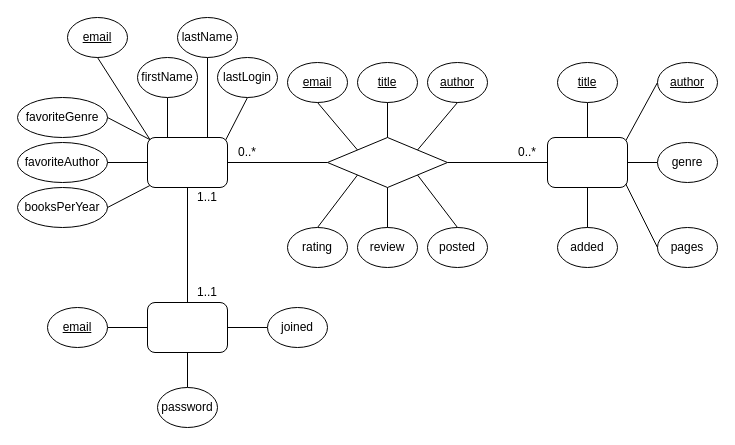
Image size: 735x445. Some labels were removed from this diagram. Here are the shapes that lost their labels. From the top down, the box of each, then its label:
(146, 136, 228, 188): user_info
(326, 136, 448, 188): reviews_ratings
(546, 136, 628, 188): book_info
(146, 302, 228, 352): user_login
